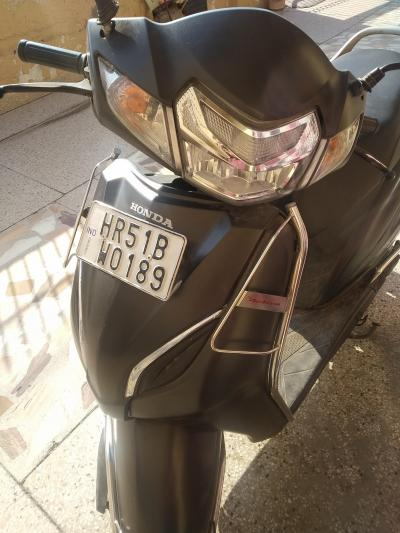doublelinenumberplate: (73, 199, 188, 304)
